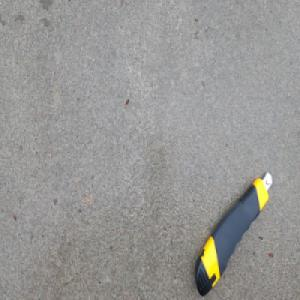Cutter: (193, 169, 273, 297)
